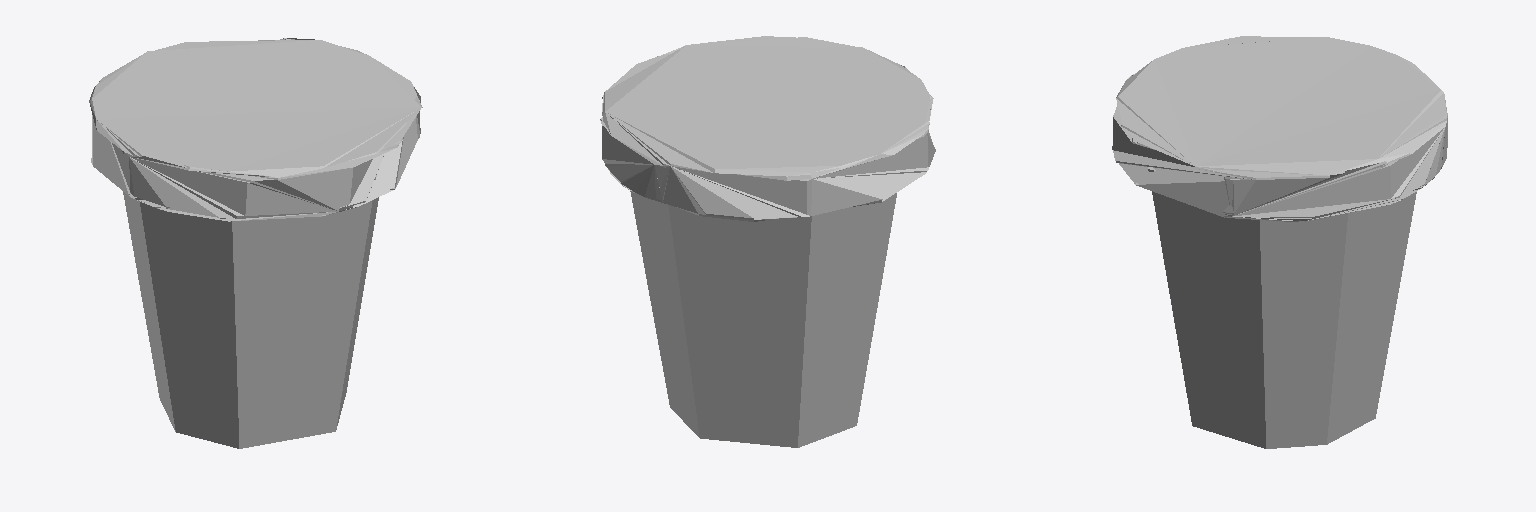
The model's file is topleft_foot.obj.
3 views of the same model, side by side, from view 1: azimuth 30°, elevation 25°; view 2: azimuth 150°, elevation 25°; view 3: azimuth 270°, elevation 25° (orthographic).
Visible parts, largest first — view 1: topleft_foot_mesh6.004_mesh6-geometry; view 2: topleft_foot_mesh6.004_mesh6-geometry; view 3: topleft_foot_mesh6.004_mesh6-geometry.
Part boxes in pixels (x1,y1,x2,y2): topleft_foot_mesh6.004_mesh6-geometry: (89, 38, 422, 448); topleft_foot_mesh6.004_mesh6-geometry: (600, 36, 935, 447); topleft_foot_mesh6.004_mesh6-geometry: (1112, 36, 1447, 448).
Bounding box in the file's own units: 0.0373 × 0.0376 × 0.0375.